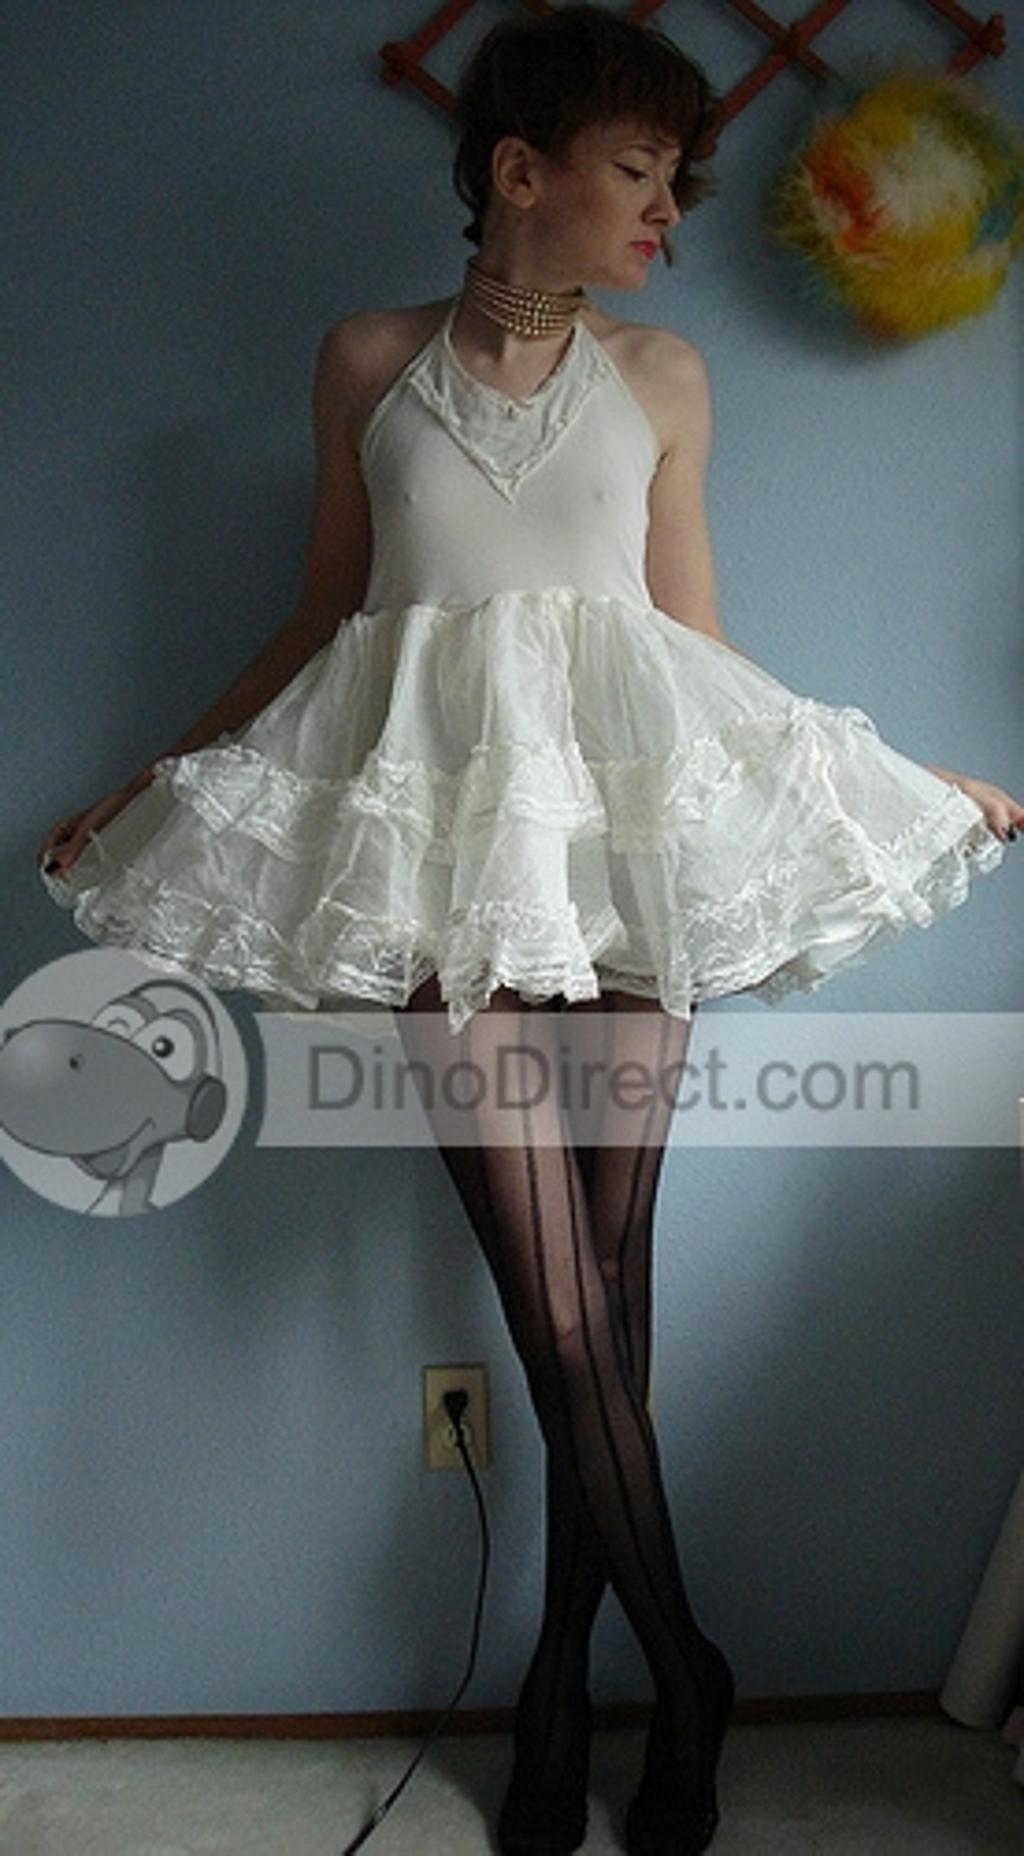face: (550, 87, 684, 286)
